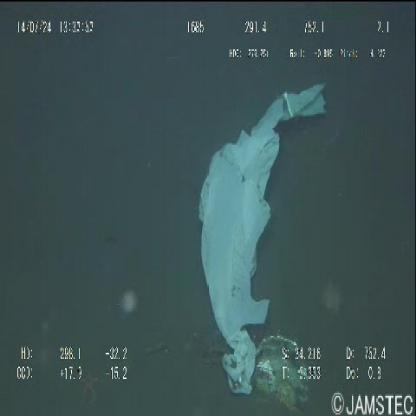Rác: (198, 82, 326, 398)
